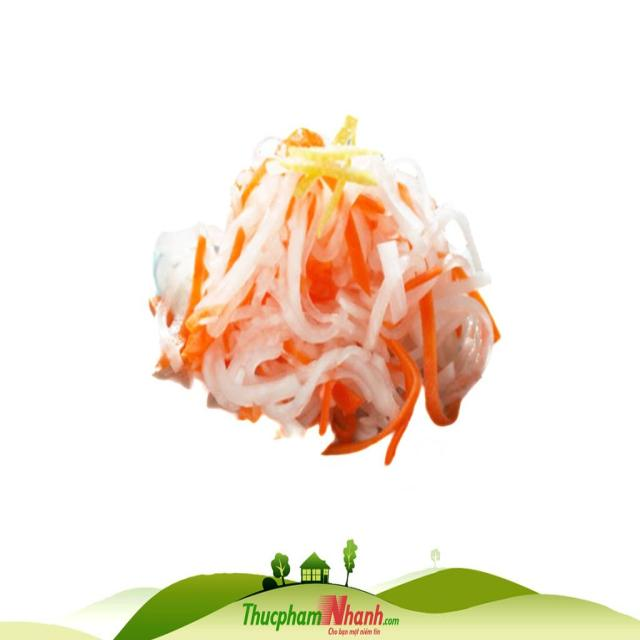do chua: (149, 116, 499, 464)
